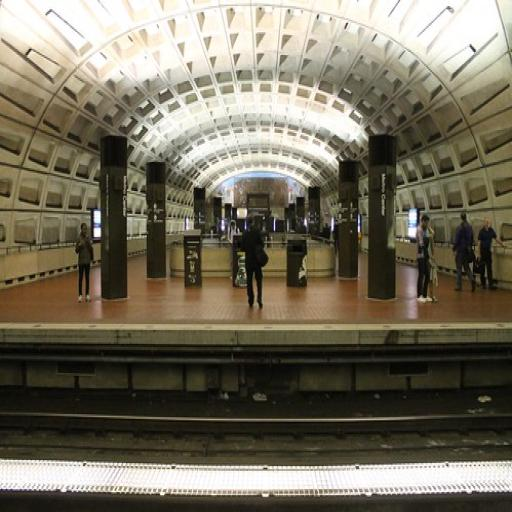platform_edge: (0, 301, 512, 380)
